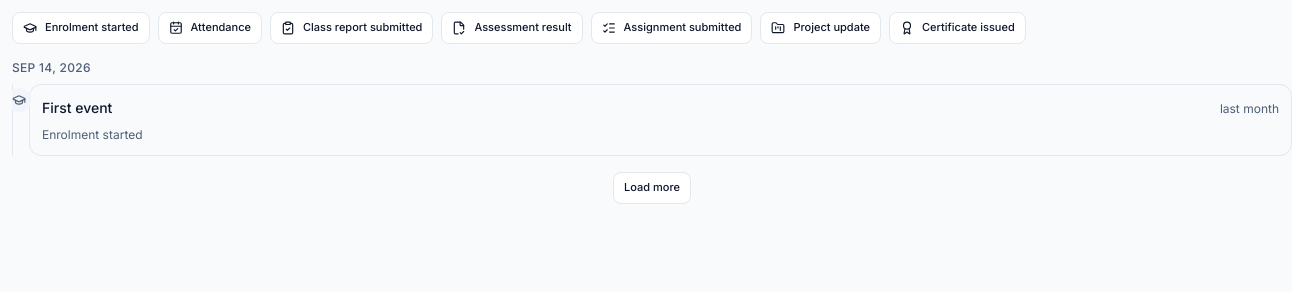
Test: StudentTimeline › loads more and appends without duplicating an entry the next page repeats
This screenshot has width=1292, height=292.
expect the text "First event" is shown: met, box [42,97,112,119]
Click the button "Load more" at [652, 188], box [613,172,691,204]
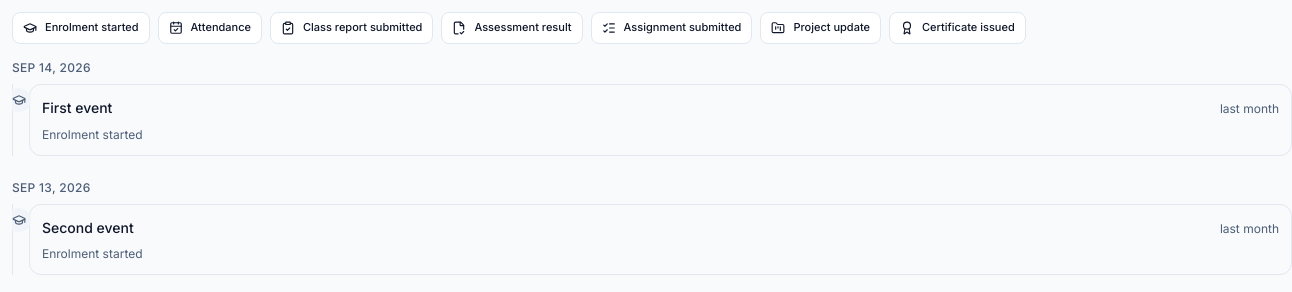
expect the text "Second event" is shown: met, box [42,217,134,238]
expect the number of list items with test id "timeline-entry" is 2: met, box [29,84,1291,156]; [29,204,1291,275]
expect the button "Load more" is gone: met
